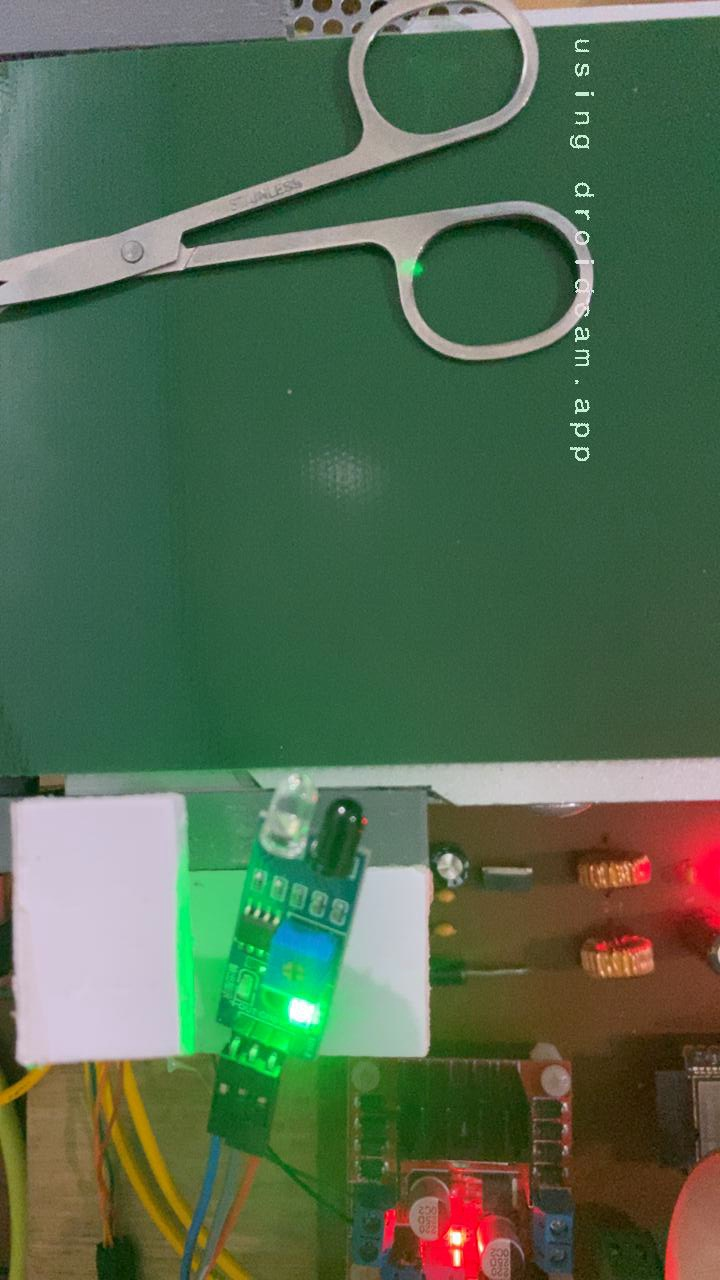scissor: (0, 32, 603, 369)
